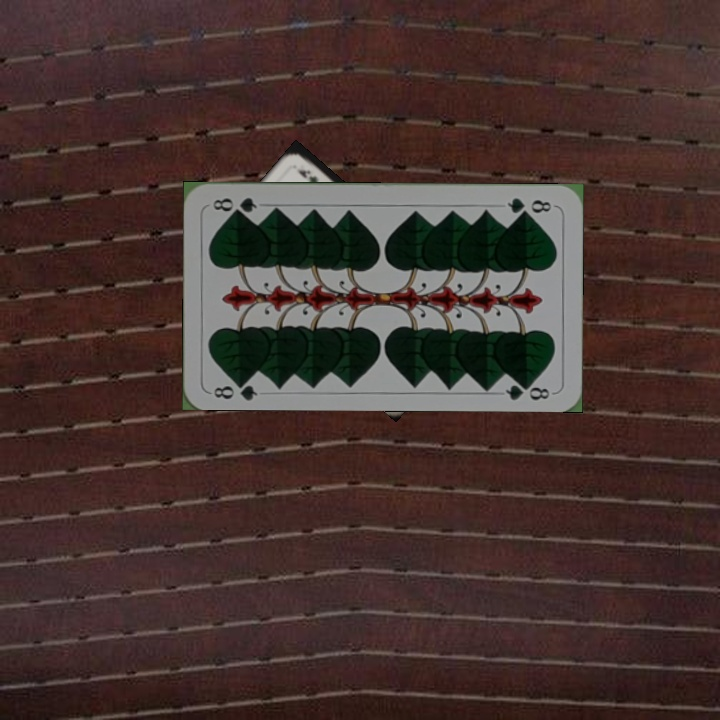G8: (210, 375, 260, 402), (503, 193, 554, 217)
